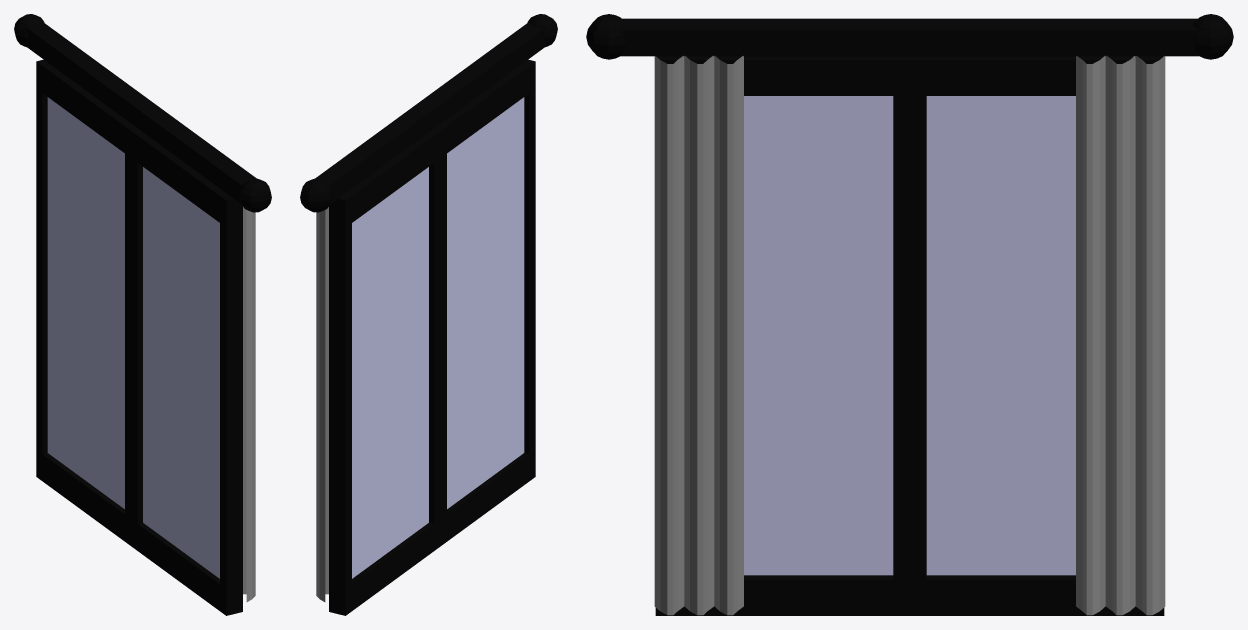
File: window.gltf
The picture shows the model from 3 angles, left to right: view 1: azimuth 30°, elevation 25°; view 2: azimuth 150°, elevation 25°; view 3: azimuth 270°, elevation 25°; orthographic projection. The views are drawn at different scales.
Parts seen in each view (by area): view 1: window, window top, window clothes, Sphere; view 2: window, window top, window clothes, Sphere; view 3: window, window clothes, window top, Sphere.
Part boxes in pixels (left/top/right/bottom): window: left=36, top=59, right=242, bottom=615; window top: left=25, top=23, right=256, bottom=203; window clothes: left=243, top=207, right=255, bottom=602; Sphere: left=14, top=14, right=271, bottom=212; window: left=329, top=59, right=535, bottom=615; window top: left=315, top=23, right=546, bottom=203; window clothes: left=316, top=207, right=328, bottom=602; Sphere: left=300, top=14, right=557, bottom=212; window: left=655, top=56, right=1164, bottom=615; window clothes: left=654, top=55, right=1165, bottom=615; window top: left=621, top=18, right=1198, bottom=56; Sphere: left=586, top=14, right=1233, bottom=59.
Bounding box in the file's own units: 0.3135 × 3.62 × 3.56.
